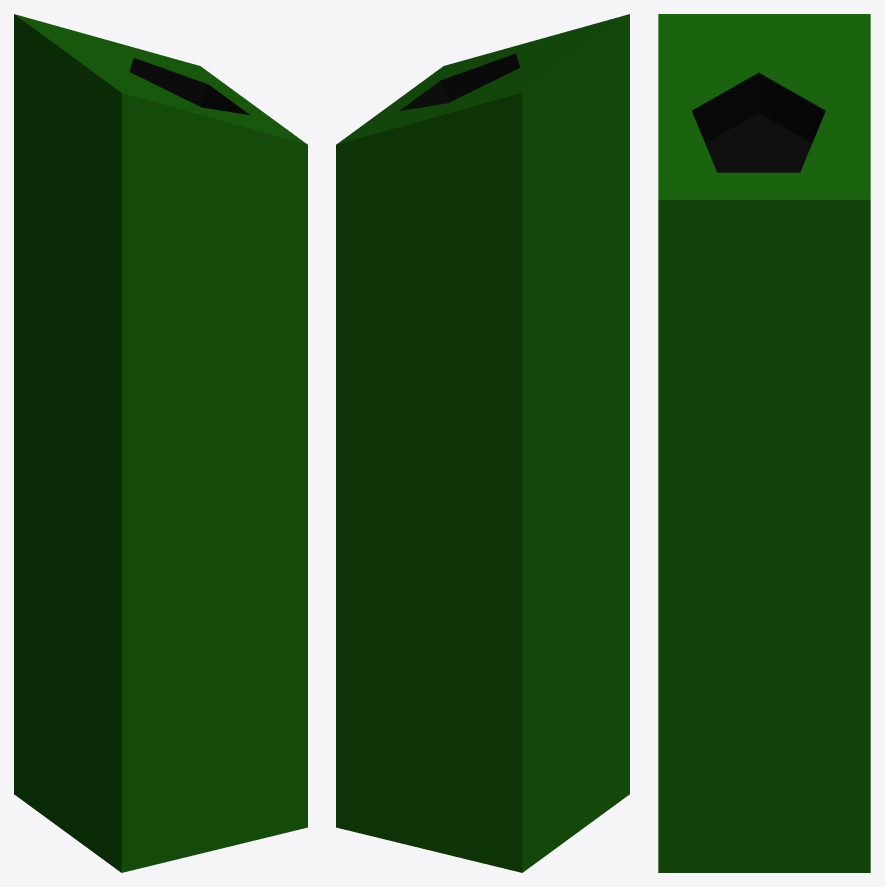
Rendered from gPentaConsole.gltf.
The picture shows the model from 3 angles, left to right: view 1: azimuth 30°, elevation 25°; view 2: azimuth 150°, elevation 25°; view 3: azimuth 270°, elevation 25°; orthographic projection.
Parts seen in each view (by area): view 1: Cube.001; view 2: Cube.001; view 3: Cube.001.
Part boxes in pixels (bbox=[...]): Cube.001: bbox=[14, 14, 307, 872]; Cube.001: bbox=[336, 14, 629, 872]; Cube.001: bbox=[658, 14, 870, 872].
Bounding box in the file's own units: 2 × 8 × 2.
